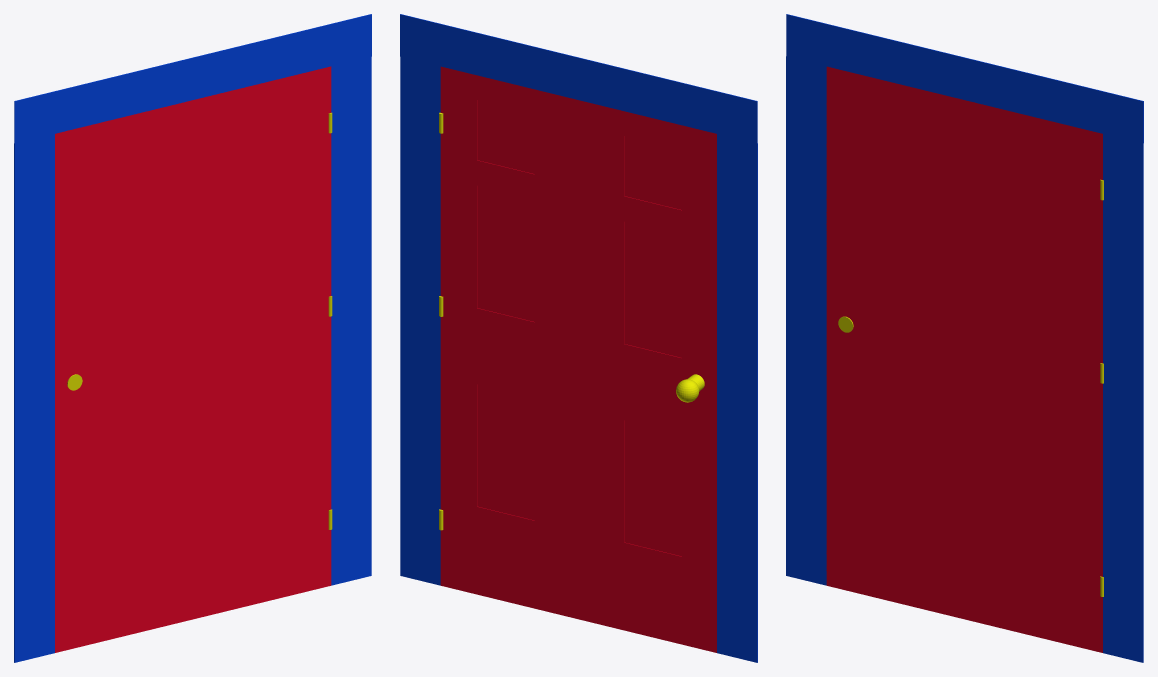
File: Door.fbx
3 views of the same model, side by side, from view 1: azimuth 30°, elevation 25°; view 2: azimuth 150°, elevation 25°; view 3: azimuth 330°, elevation 25° (orthographic).
Parts seen in each view (by area): view 1: Cube.002; view 2: Cube.002; view 3: Cube.002.
Boxes of the visible parts, x1,y1,x2,y2 form: Cube.002: (14, 14, 371, 662); Cube.002: (400, 14, 757, 662); Cube.002: (786, 14, 1143, 662).
Size of the model in its own units: 970 by 1456 by 81.24.
